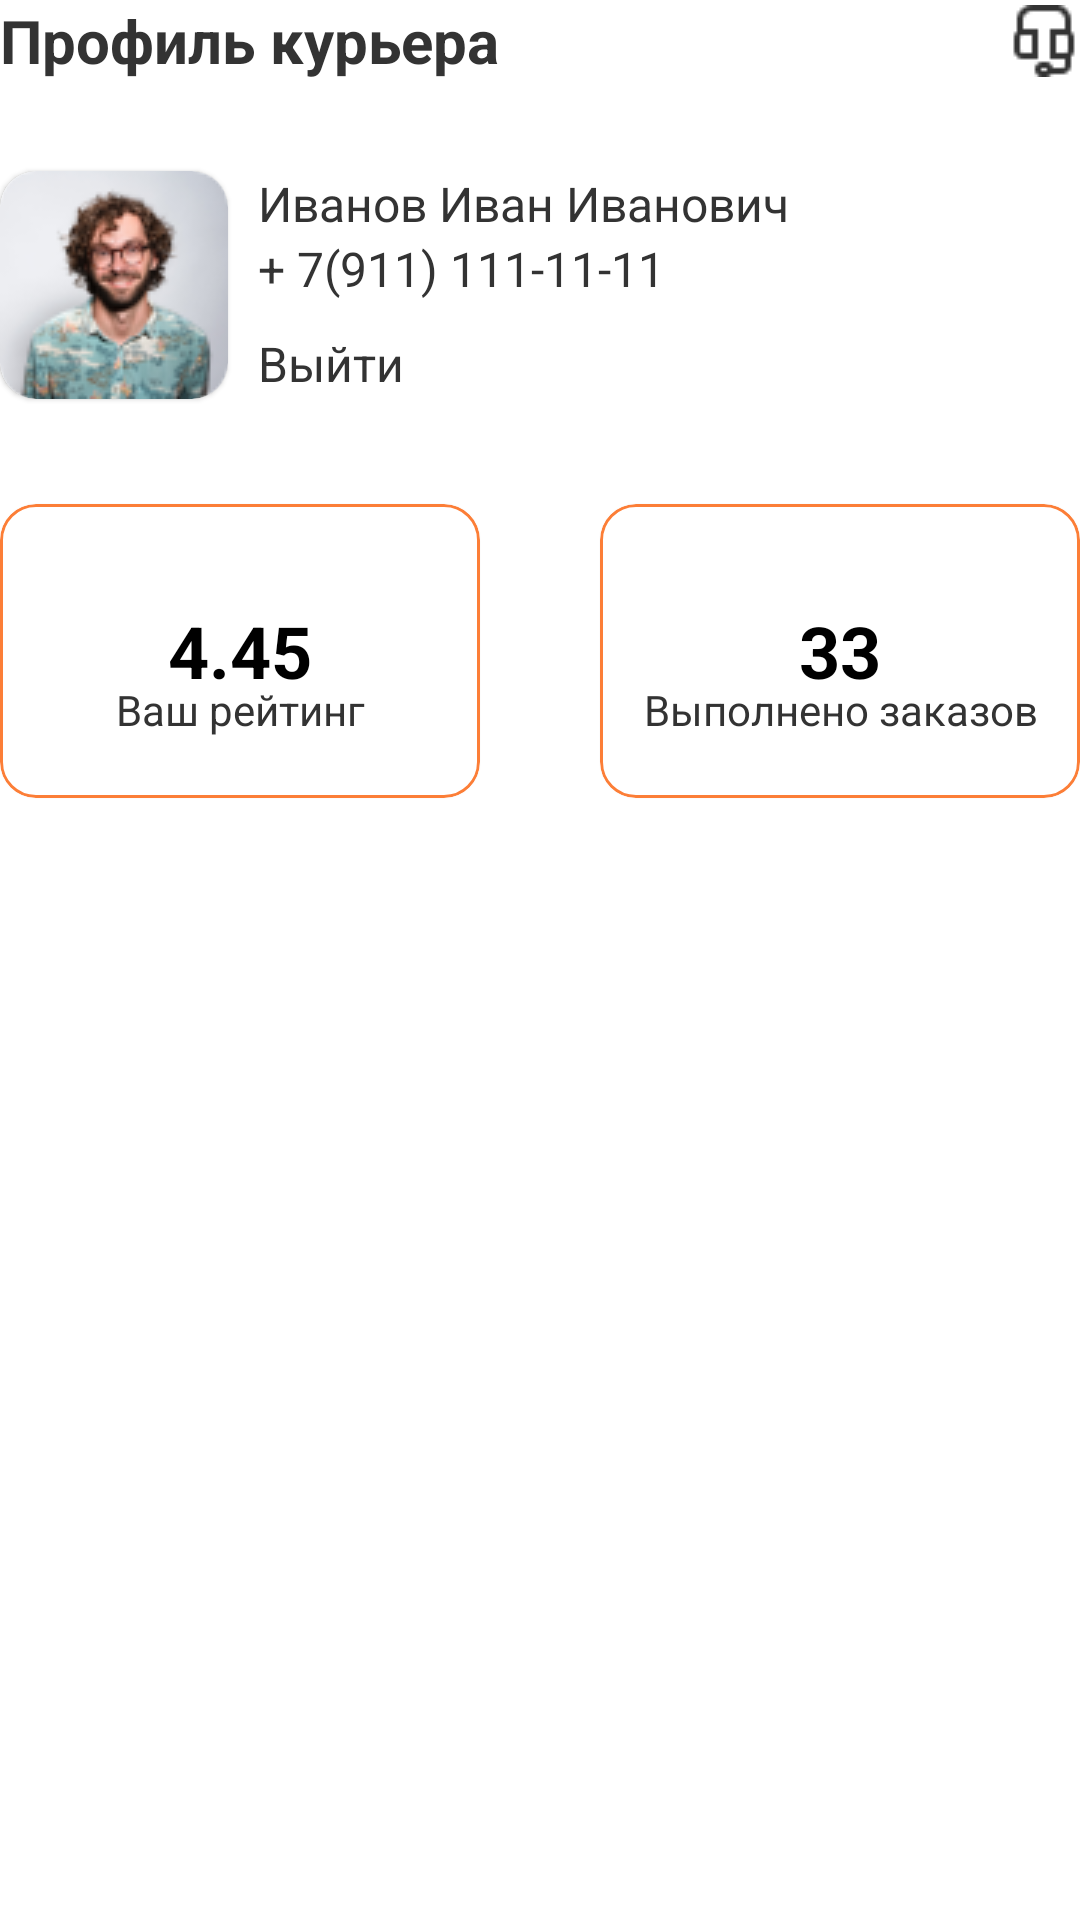

Screen size 1080px x 1920px. Icon name, then its box in pixels as box=[x1, y1, x2, y2]:
profile pic: box=[0, 171, 228, 399]
support pic: box=[1013, 5, 1075, 77]
